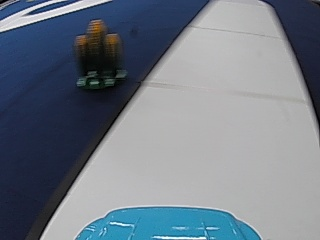corn: (73, 16, 124, 92)
